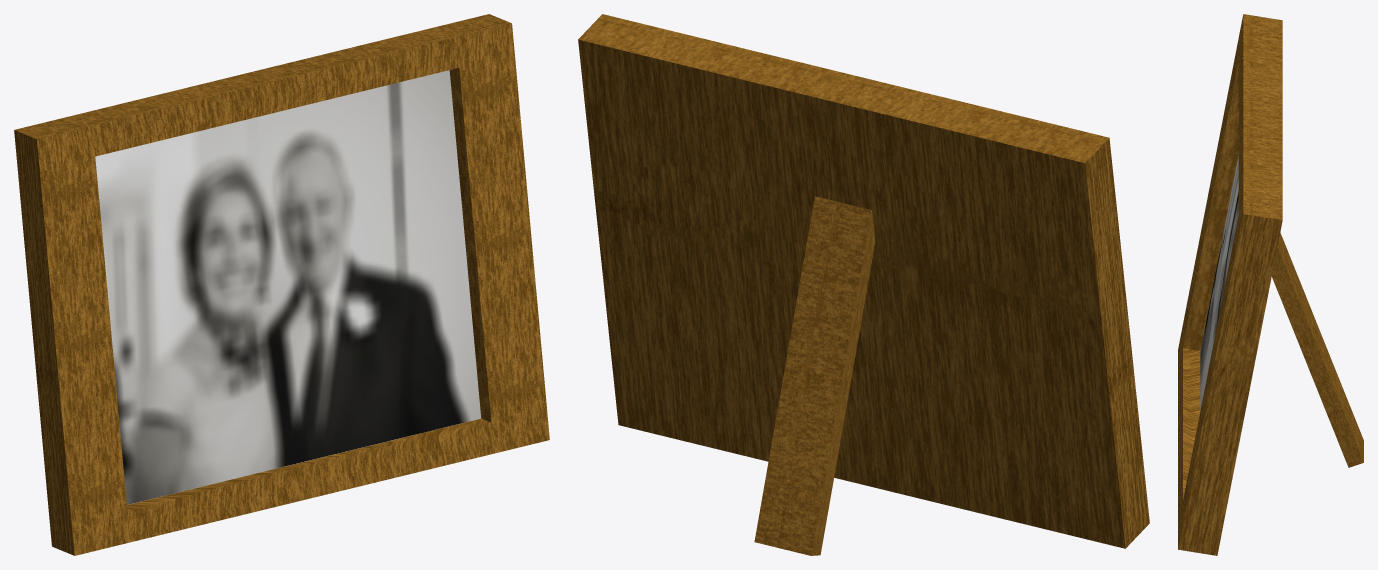
File: Picture2Stand.FBX
3 views of the same model, side by side, from view 1: azimuth 30°, elevation 25°; view 2: azimuth 150°, elevation 25°; view 3: azimuth 270°, elevation 25° (orthographic). The views are drawn at different scales.
Visible parts, largest first — view 1: Box001; view 2: Box001, Box002; view 3: Box001, Box002.
Part boxes in pixels (left/top/right/bottom): Box001: left=14, top=14, right=549, bottom=555; Box001: left=578, top=14, right=1149, bottom=548; Box002: left=754, top=196, right=875, bottom=555; Box001: left=1178, top=14, right=1282, bottom=555; Box002: left=1271, top=233, right=1363, bottom=467.
Bounding box in the file's own units: 63.17 × 50.53 × 24.8.
Materials: 2 (2 with a texture image).
